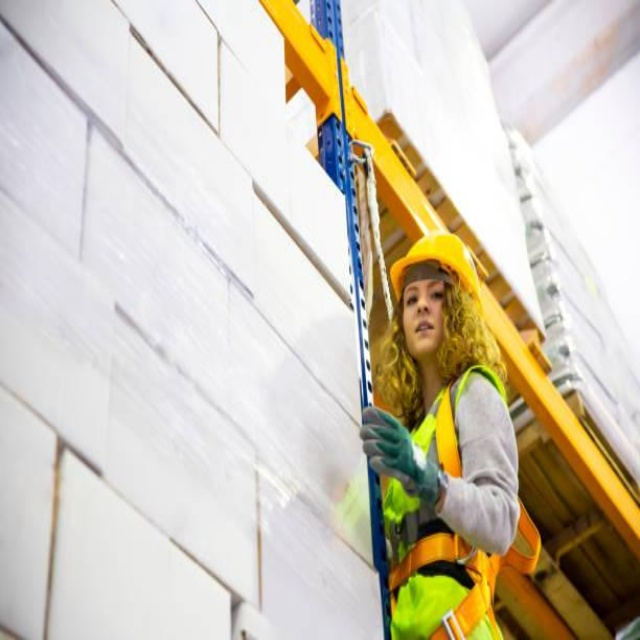Arnes_seguridad: (384, 364, 516, 640)
